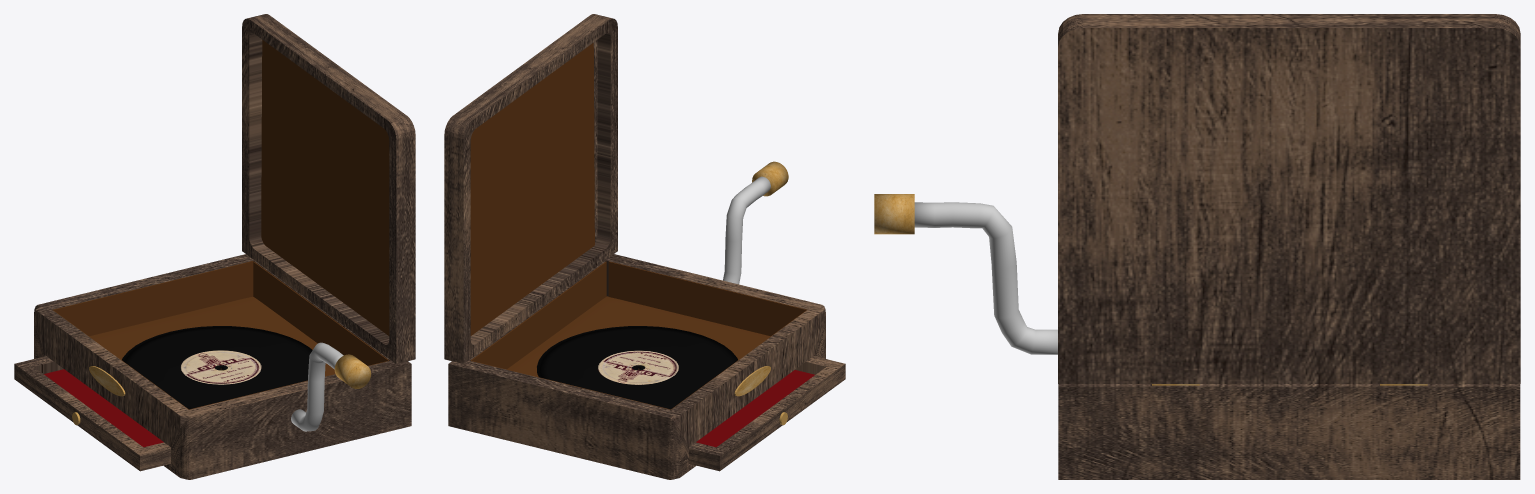
File: 音樂盒.fbx
The picture shows the model from 3 angles, left to right: view 1: azimuth 30°, elevation 25°; view 2: azimuth 150°, elevation 25°; view 3: azimuth 270°, elevation 25°; orthographic projection. The views are drawn at different scales.
Parts seen in each view (by area): view 1: Cube.010, Cube, Cube.001, pPipe1, Cube.008, Cube.005, Cube.002, Cube.006, pPipe2, Cube.011, Cylinder, Cylinder.001 (+1 smaller); view 2: Cube, Cube.010, Cube.001, pPipe1, Cube.007, Cube.005, Cube.002, Cube.006, pPipe2, Cube.011, Cylinder, Cylinder.001 (+1 smaller); view 3: Cube.001, Cube, Cylinder, Cylinder.001.
Boxes of the visible parts, x1,y1,x2,y2 form: Cube.010: (261,40,389,335); Cube: (34,254,411,479); Cube.001: (242,14,415,363); pPipe1: (122,326,312,409); Cube.008: (52,261,253,336); Cube.005: (89,296,335,375); Cube.002: (14,356,170,471); Cube.006: (253,261,389,365); pPipe2: (180,350,262,385); Cube.011: (44,369,163,447); Cylinder: (291,342,343,431); Cylinder.001: (334,354,371,388); Cube: (448,254,825,479); Cube.010: (470,43,594,335); Cube.001: (444,14,617,363); pPipe1: (537,326,737,409); Cube.007: (608,261,807,336); Cube.005: (507,296,770,376); Cube.002: (689,356,845,471); Cube.006: (470,261,606,369); pPipe2: (597,350,679,385); Cube.011: (696,370,814,447); Cylinder: (723,176,770,284); Cylinder.001: (752,161,788,196); Cube.001: (1058,14,1520,383); Cube: (1058,384,1520,479); Cylinder: (914,202,1057,354); Cylinder.001: (874,194,914,234).
Size of the model in its own units: 386 by 425 by 547.
